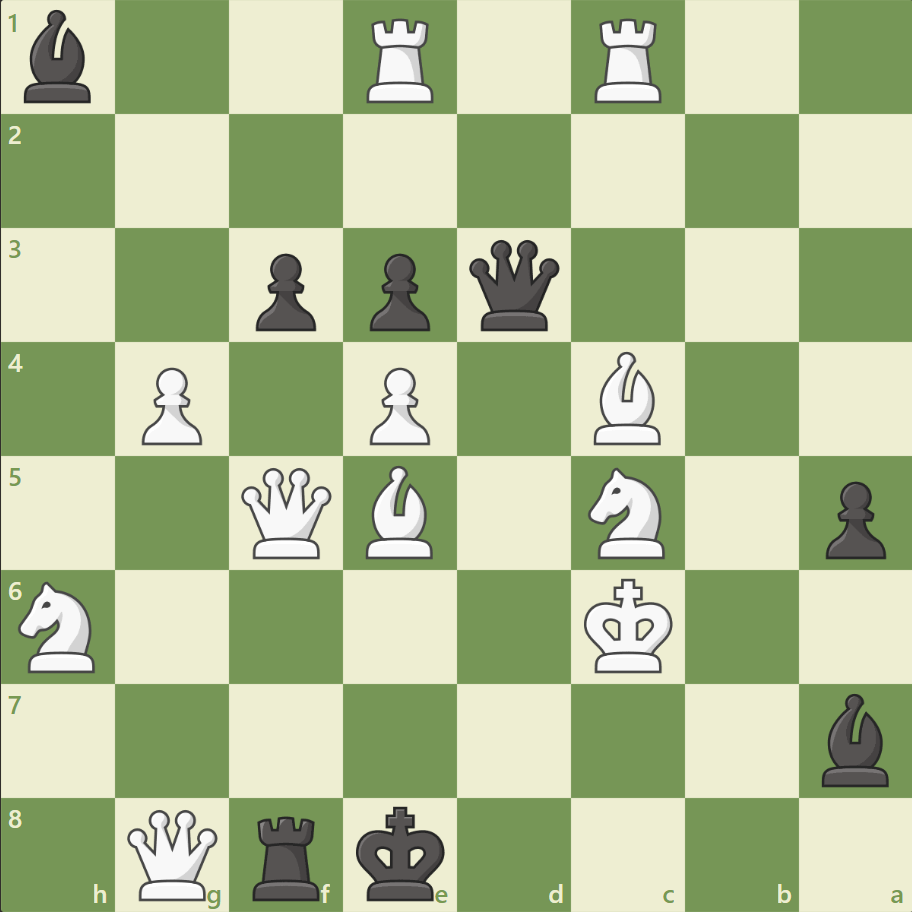B: (358, 460, 442, 563), (585, 347, 669, 449)
K: (579, 571, 679, 679)
N: (579, 461, 676, 564), (11, 575, 108, 677)
P: (133, 359, 208, 450), (361, 359, 435, 450)
Q: (124, 804, 223, 903), (237, 463, 336, 562)
R: (587, 12, 670, 109), (360, 12, 442, 109)
b: (812, 687, 896, 790), (17, 6, 101, 109)
k: (351, 798, 451, 906)
p: (247, 246, 322, 337), (815, 473, 889, 564), (361, 246, 435, 337)
q: (464, 236, 563, 335)
r: (246, 806, 329, 904)
